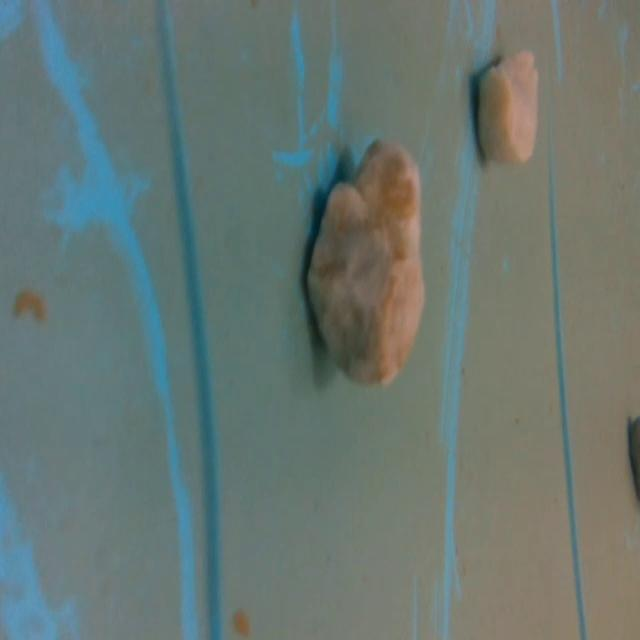rock: (300, 132, 436, 393), (466, 44, 546, 172)
